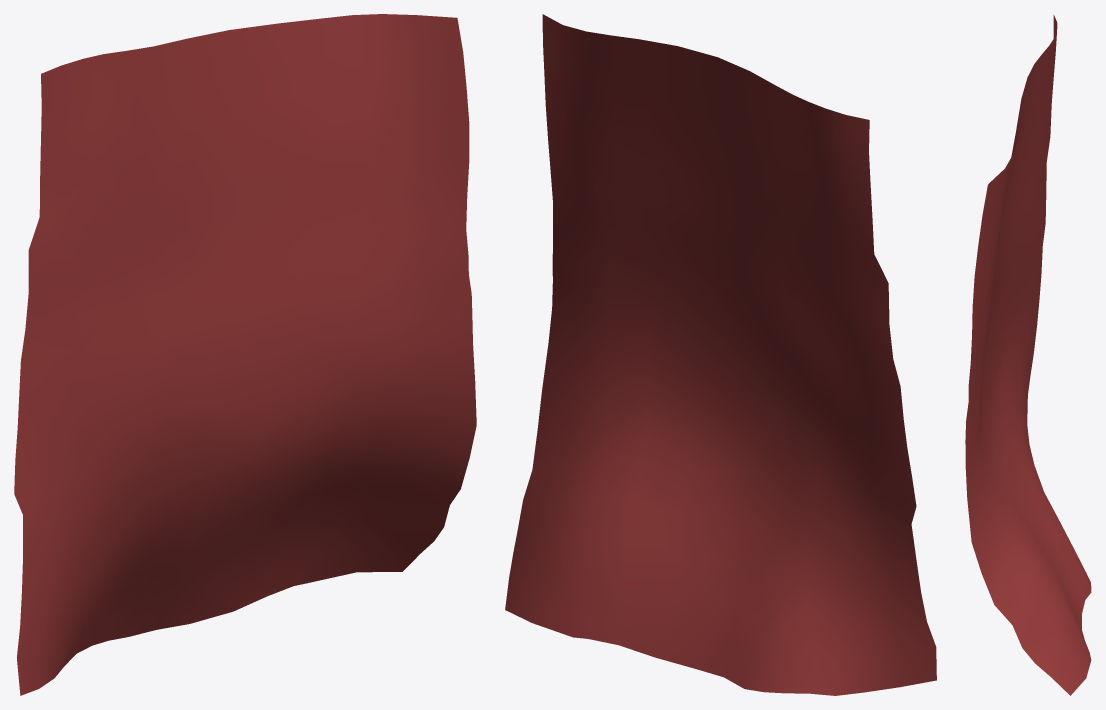
File: popliteal-fascia-l.glb
3 renders of one model, left to right at view 1: azimuth 30°, elevation 25°; view 2: azimuth 150°, elevation 25°; view 3: azimuth 270°, elevation 25°, orthographic. The views are drawn at different scales.
Parts seen in each view (by area): view 1: Popliteal fascia.l; view 2: Popliteal fascia.l; view 3: Popliteal fascia.l.
Part boxes in pixels (x1,y1,x2,y2): Popliteal fascia.l: [14, 14, 476, 695]; Popliteal fascia.l: [505, 14, 936, 695]; Popliteal fascia.l: [965, 15, 1091, 695].
Size of the model in its own units: 0.0714 by 0.0968 by 0.0204.
